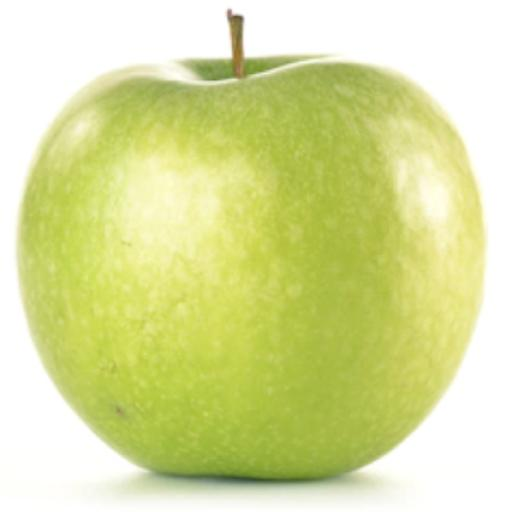apple: (19, 58, 484, 479)
